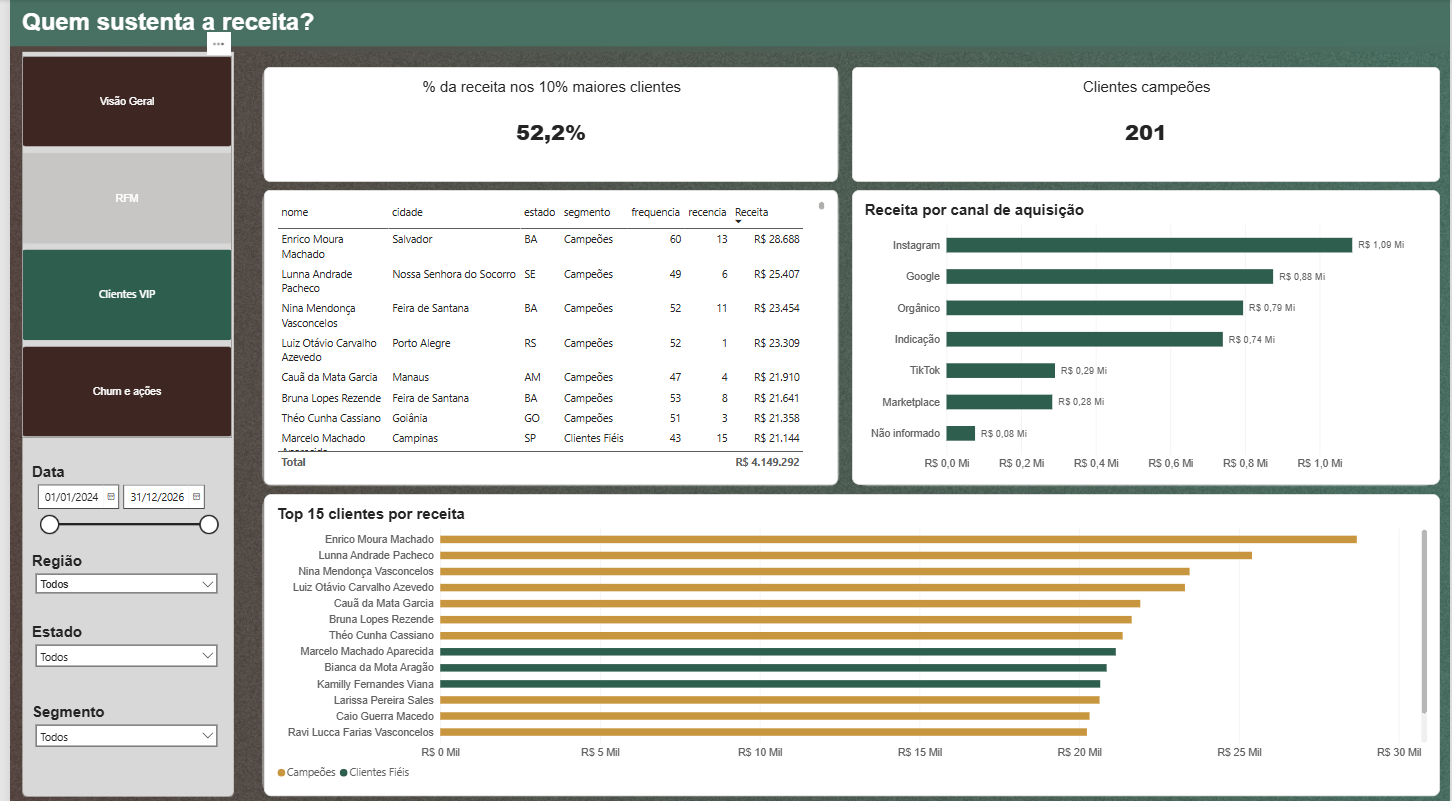

Layout of this report page (visuals, bound fields, positions):
{"tool":"powerbi","page":{"name":"Clientes VIP","canvas":[1920,1080],"ordinal":2},"visuals":[{"type":"card","title":"Clientes campeões","fields":{"Values":["Medidas.Clientes Compradores"]},"box":[1122.7,90.7,784,153.3],"z":0},{"type":"card","title":"% da receita nos 10% maiores clientes","fields":{"Values":["Medidas.% Receita Top 10% Clientes"]},"box":[338.7,90.7,765.3,153.3],"z":1000},{"type":"barChart","title":"Top 15 clientes por receita","fields":{"Category":["dim_clientes.nome"],"Series":["dim_clientes.segmento"],"Y":["Medidas.Receita"]},"box":[338.7,669.3,1568,393.3],"z":2000},{"type":"barChart","title":"Receita por canal de aquisição","fields":{"Category":["dim_clientes.canal_aquisicao"],"Y":["Medidas.Receita"]},"box":[1122.7,254.7,784,393.3],"z":3000},{"type":"tableEx","fields":{"Values":["dim_clientes.nome","dim_clientes.cidade","dim_clientes.estado","dim_clientes.segmento","dim_clientes.frequencia","dim_clientes.recencia","Medidas.Receita"]},"box":[338.7,254.7,765.3,393.3],"z":4000},{"type":"slicer","title":"Região","fields":{"Values":["dim_clientes.regiao"]},"box":[29.3,737.3,252,94.7],"z":5000},{"type":"slicer","title":"Estado","fields":{"Values":["dim_clientes.estado"]},"box":[29.3,832,252,68],"z":6000},{"type":"slicer","title":"Segmento","fields":{"Values":["dim_clientes.segmento"]},"box":[29.3,938.7,252,101.3],"z":7000},{"type":"slicer","title":"Data","fields":{"Values":["dim_calendario.data"]},"box":[29.3,618.7,252,101.3],"z":8000},{"type":"pageNavigator","box":[16,76,280,509.3],"z":9000},{"type":"textbox","box":[16,12,1893.3,45.3],"z":9001}]}

Visuals, with their boxes on the page's 1920x1080 design canvas (x1, y1, x2, y2). These are canvas units, not pixel positions in the 1452x801 screenshot, which may show the page scaled, cropped or inside an application window:
"Clientes campeões" card: [x1=1123, y1=91, x2=1907, y2=244]
"% da receita nos 10% maiores clientes" card: [x1=339, y1=91, x2=1104, y2=244]
"Top 15 clientes por receita" barChart: [x1=339, y1=669, x2=1907, y2=1063]
"Receita por canal de aquisição" barChart: [x1=1123, y1=255, x2=1907, y2=648]
tableEx - dim_clientes.nome x dim_clientes.cidade: [x1=339, y1=255, x2=1104, y2=648]
"Região" slicer: [x1=29, y1=737, x2=281, y2=832]
"Estado" slicer: [x1=29, y1=832, x2=281, y2=900]
"Segmento" slicer: [x1=29, y1=939, x2=281, y2=1040]
"Data" slicer: [x1=29, y1=619, x2=281, y2=720]
pageNavigator: [x1=16, y1=76, x2=296, y2=585]
textbox: [x1=16, y1=12, x2=1909, y2=57]
